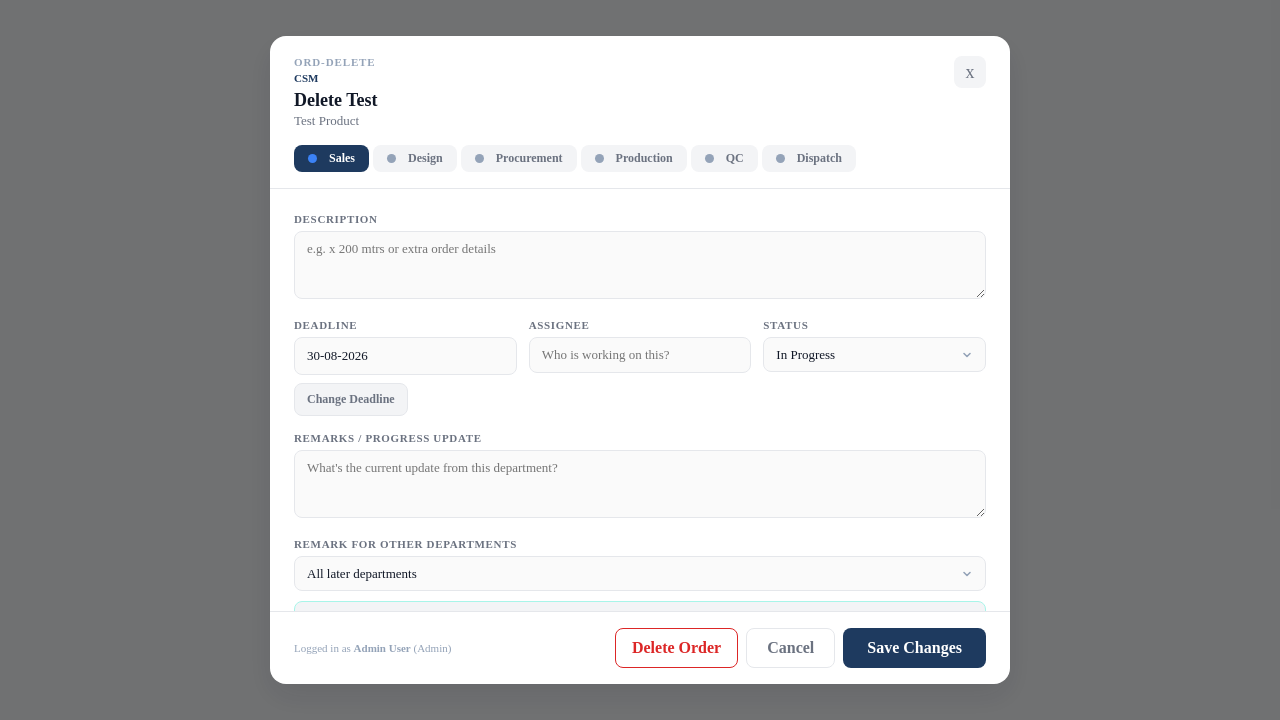
OrderModal deletion › keeps the dialog open and shows the Firestore error when deletion fails
What coordinates should you click on to do the following:
click the button "Delete Order"
I would click on:
 (677, 648)
Its box is [615, 628, 738, 668].
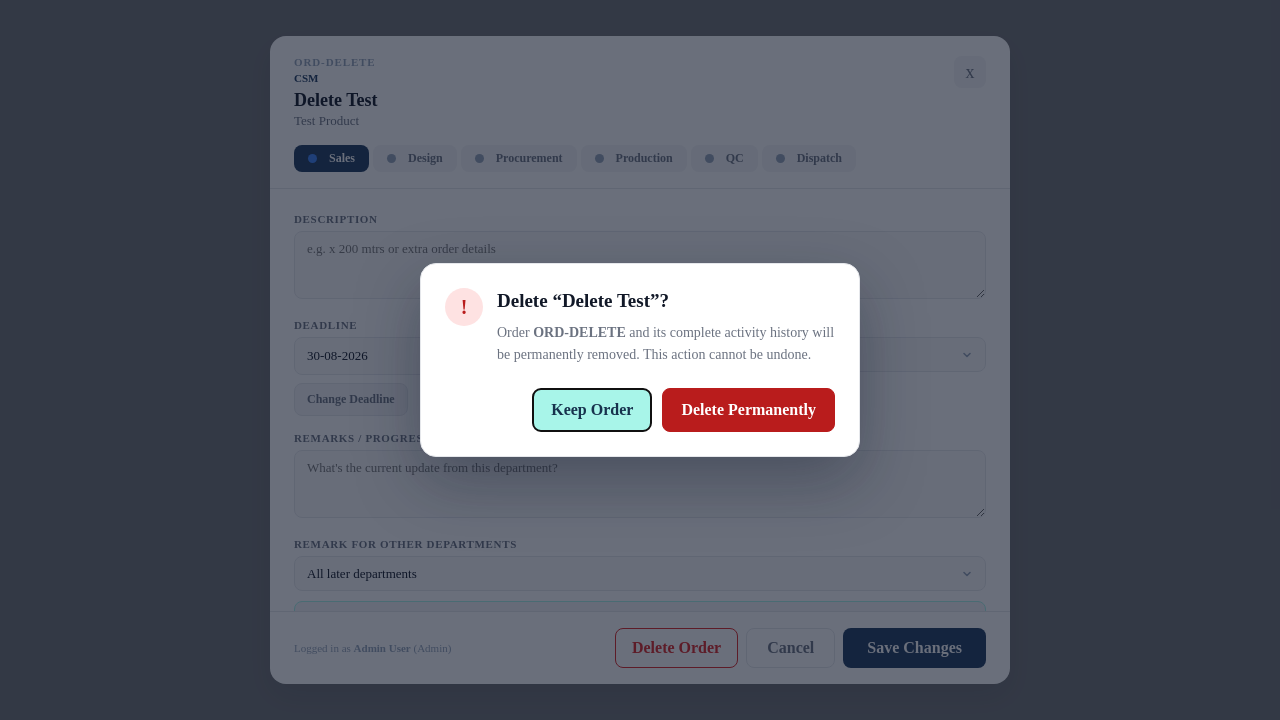
What coordinates should you click on to do the following:
click the button "Delete Permanently"
I would click on:
 (749, 410)
Its box is [662, 388, 835, 432].
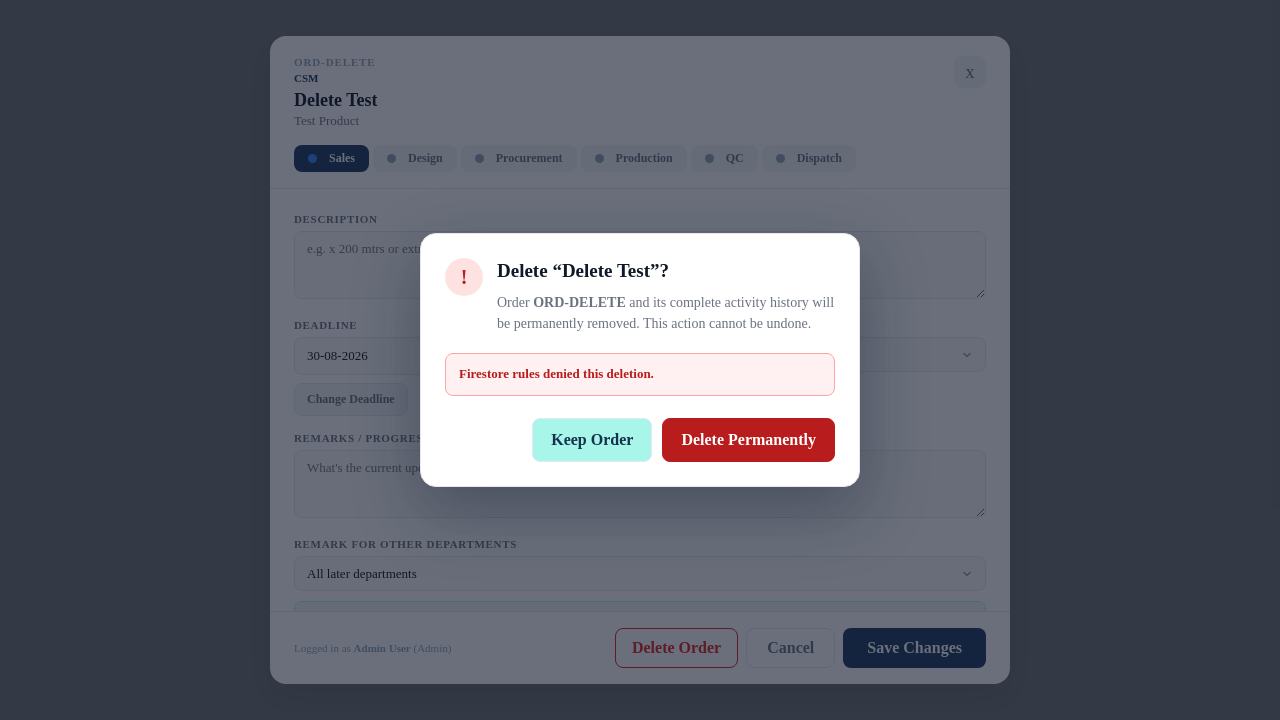
Check: the dialog is shown, box [420, 233, 860, 487]
Check: the button "Delete Permanently" is enabled, box [662, 418, 835, 462]
Check: the message reads "Firestore rules denied this deletion.", box [459, 366, 654, 381]
